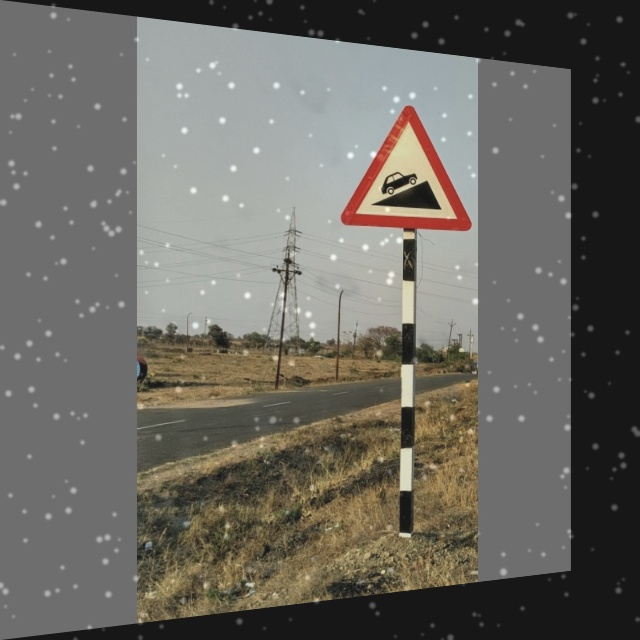Steep_Ascent: (333, 94, 474, 237)
